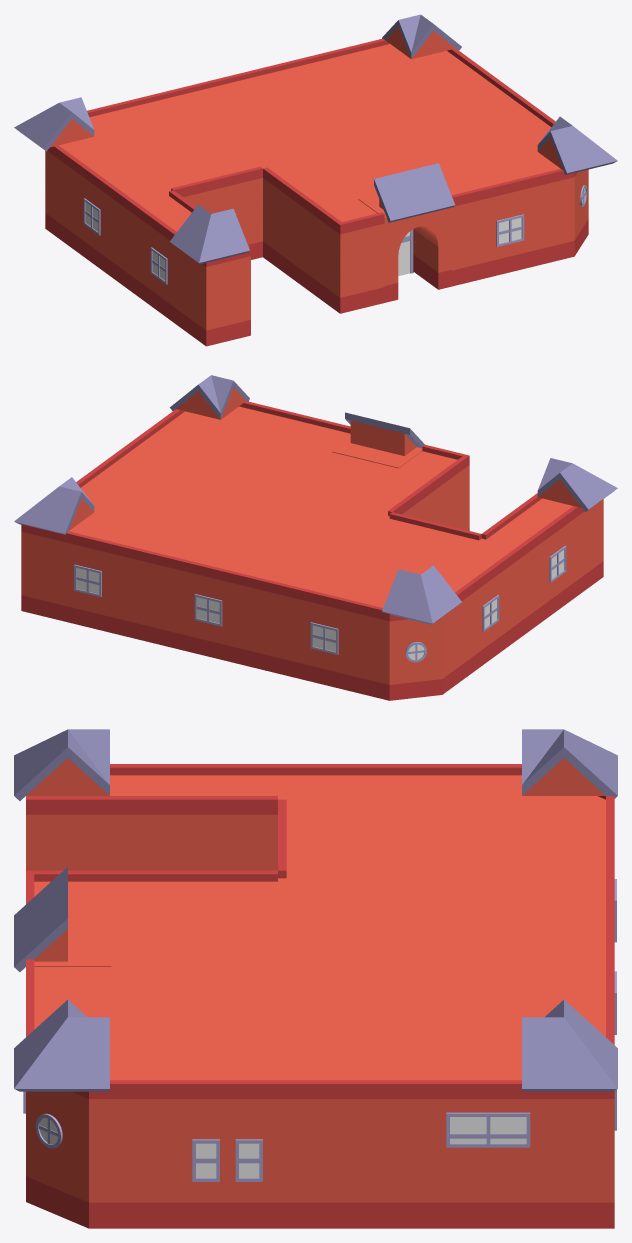
Rendered from House 3.fbx.
3 renders of one model, top to bottom at view 1: azimuth 30°, elevation 25°; view 2: azimuth 150°, elevation 25°; view 3: azimuth 270°, elevation 25°, orthographic. The views are drawn at different scales.
Visible parts, largest first — view 1: mergedBlocks; view 2: mergedBlocks; view 3: mergedBlocks.
Boxes of the visible parts, <box> form: mergedBlocks: <box>14,14,617,346</box>; mergedBlocks: <box>14,375,617,700</box>; mergedBlocks: <box>14,729,617,1228</box>.
Size of the model in its own units: 93.83 by 25.74 by 71.83.
